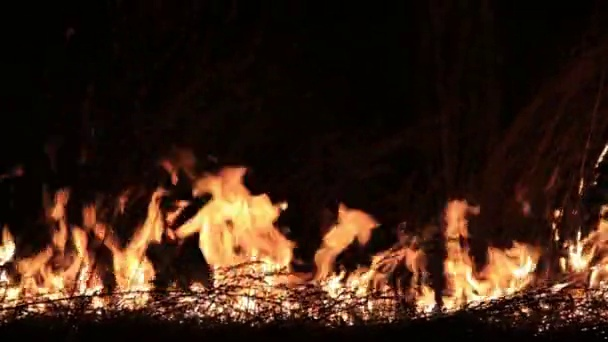fire: (1, 191, 161, 312), (185, 169, 295, 318), (442, 203, 536, 309), (309, 209, 395, 322), (568, 220, 608, 301), (406, 250, 438, 318)
